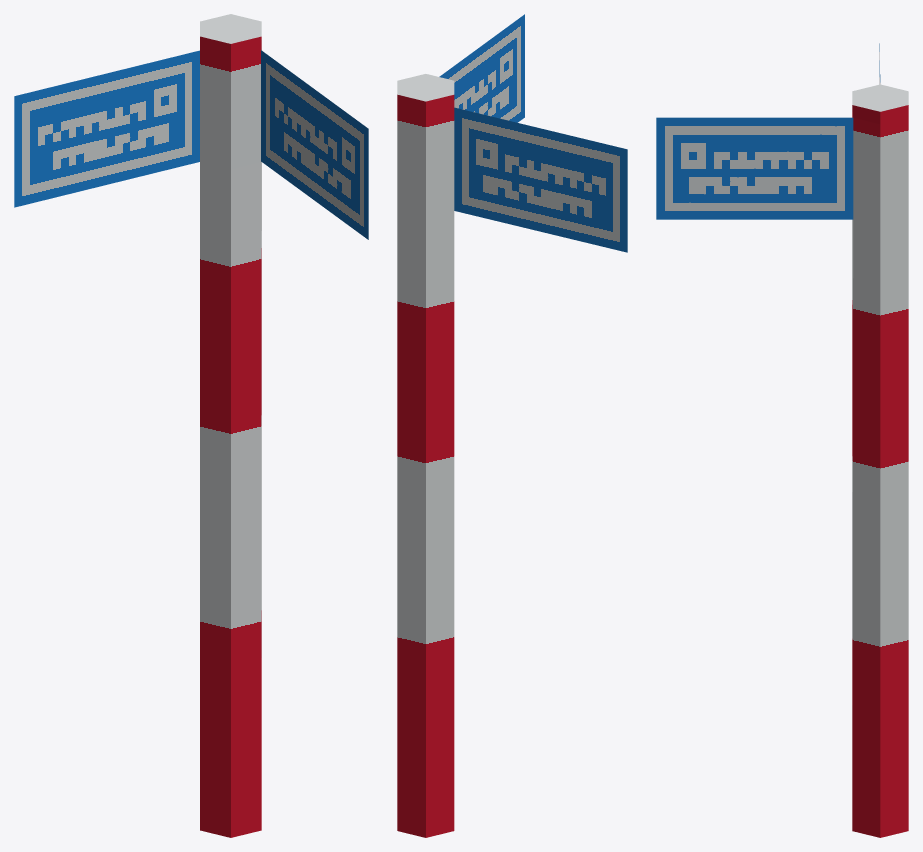
The model's file is Street Sign.fbx.
3 views of the same model, side by side, from view 1: azimuth 30°, elevation 25°; view 2: azimuth 150°, elevation 25°; view 3: azimuth 270°, elevation 25° (orthographic). The views are drawn at different scales.
Visible parts, largest first — view 1: cylinder; view 2: cylinder; view 3: cylinder.
Boxes of the visible parts, x1,y1,x2,y2 form: cylinder: (14, 14, 368, 837); cylinder: (397, 14, 627, 837); cylinder: (656, 43, 908, 837).
Size of the model in its own units: 29.09 by 89.06 by 28.02.
1 material, 1 textured.
